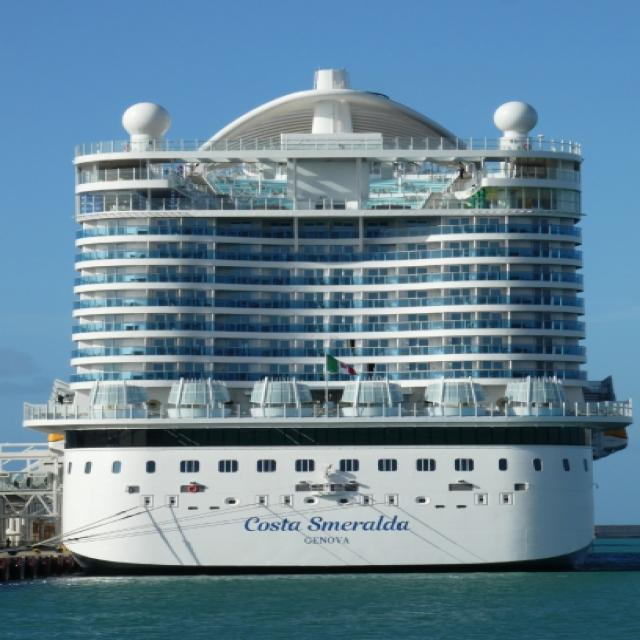cruises: (31, 63, 640, 573)
